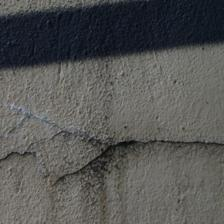Crack: (0, 35, 156, 130), (102, 4, 121, 96), (13, 43, 58, 60)
